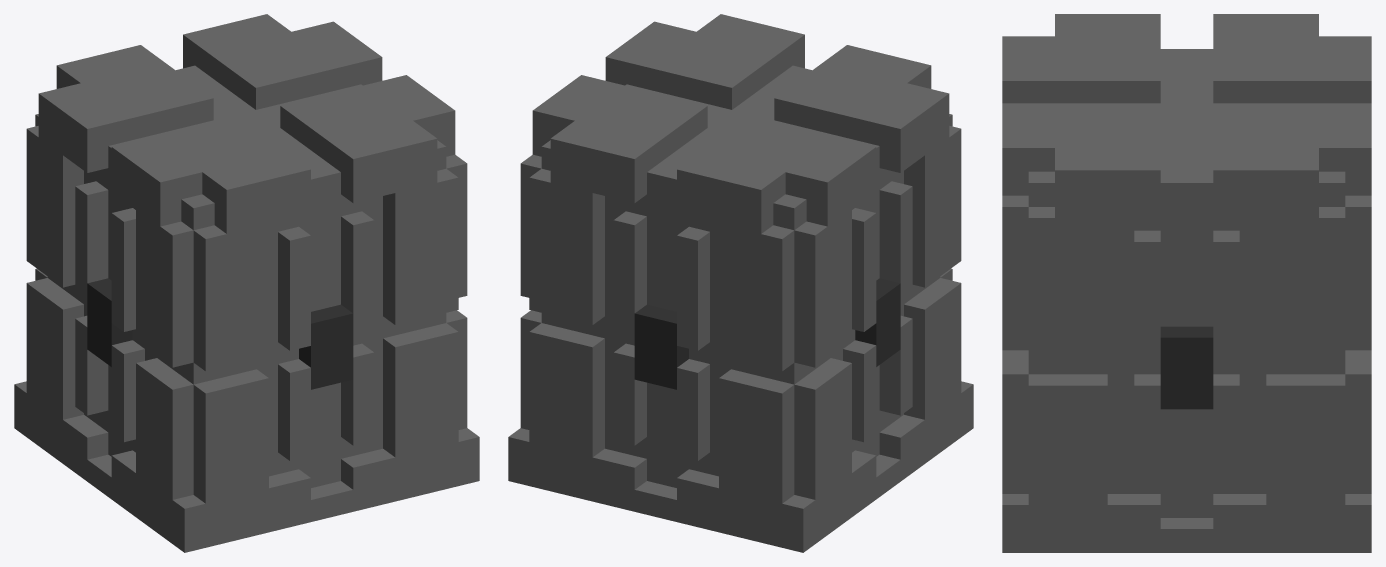
File: trigger-platform-1.obj
3 renders of one model, left to right at view 1: azimuth 30°, elevation 25°; view 2: azimuth 150°, elevation 25°; view 3: azimuth 270°, elevation 25°, orthographic. The views are drawn at different scales.
Bounding box in the file's own units: 1.4 × 1.6 × 1.4.
Materials: 1 (1 with a texture image).
